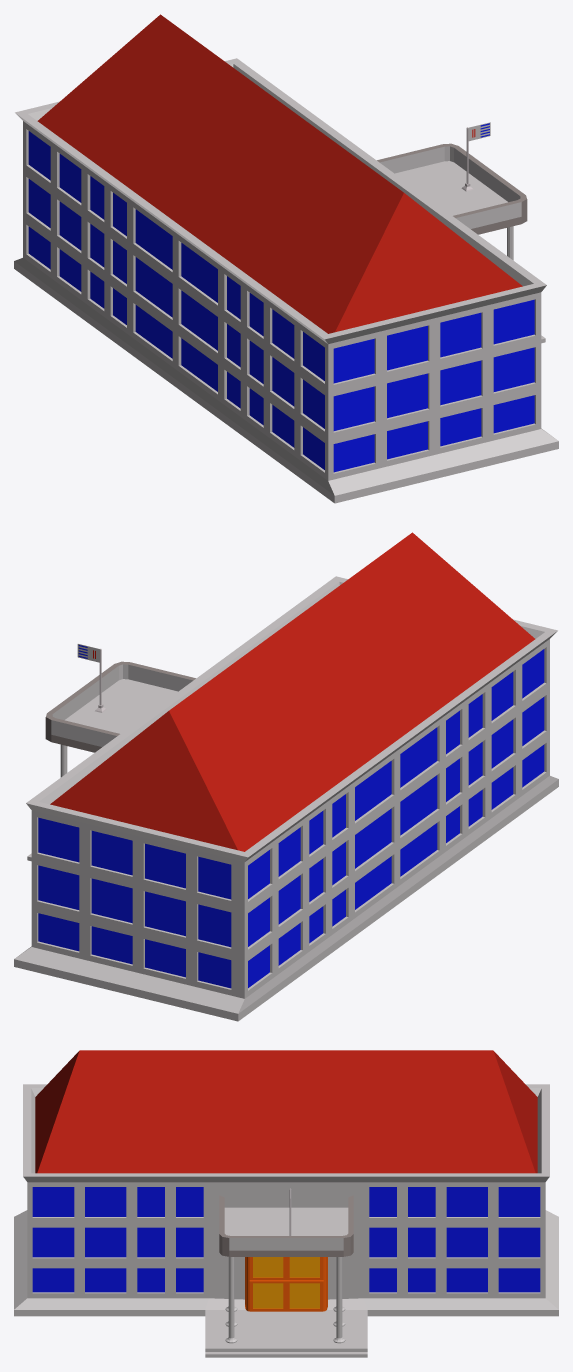
The model's file is 4 Meria.fbx.
3 renders of one model, top to bottom at view 1: azimuth 30°, elevation 25°; view 2: azimuth 150°, elevation 25°; view 3: azimuth 270°, elevation 25°, orthographic. The views are drawn at different scales.
Parts seen in each view (by area): view 1: Circle.007; view 2: Circle.007; view 3: Circle.007.
Boxes of the visible parts, x1,y1,x2,y2 form: Circle.007: (14, 14, 558, 503); Circle.007: (14, 532, 558, 1021); Circle.007: (14, 1050, 558, 1357).
Bounding box in the file's own units: 1452 × 1084 × 2458.
